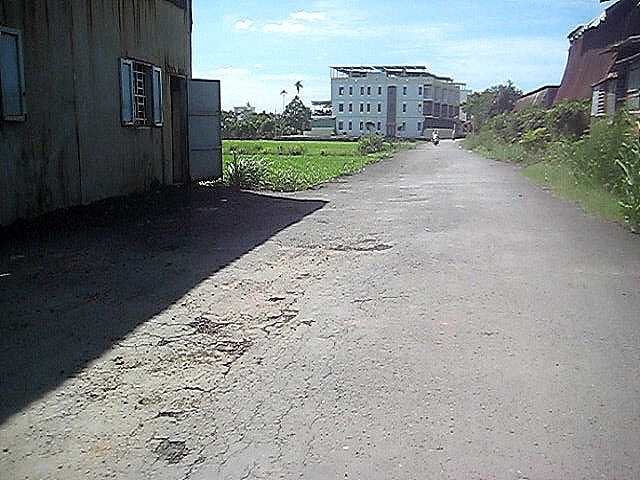hole: (295, 240, 395, 253), (151, 437, 197, 462), (189, 313, 229, 337), (215, 340, 250, 360), (266, 293, 284, 303), (293, 272, 314, 280)
